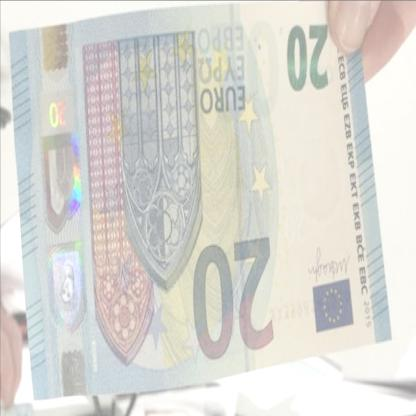euro_banknote: (14, 20, 391, 383)
